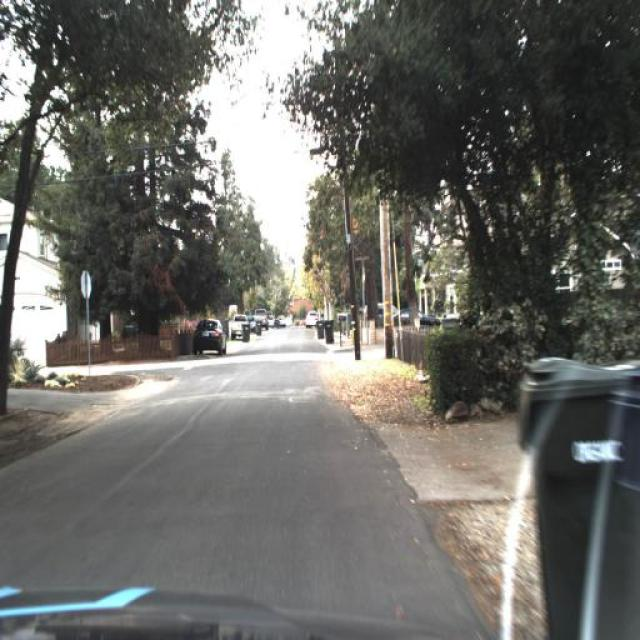car: (191, 313, 230, 359), (188, 316, 228, 356), (390, 308, 440, 331), (362, 299, 399, 321), (230, 314, 249, 338), (253, 308, 268, 331), (304, 308, 321, 328), (247, 313, 258, 333)
